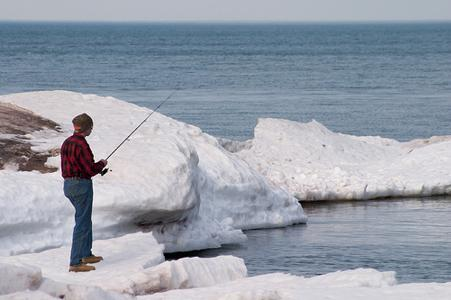person: (60, 113, 110, 273)
